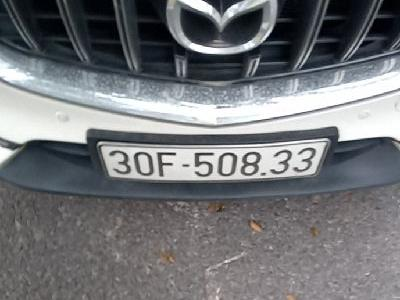lisence: (96, 138, 328, 184)
